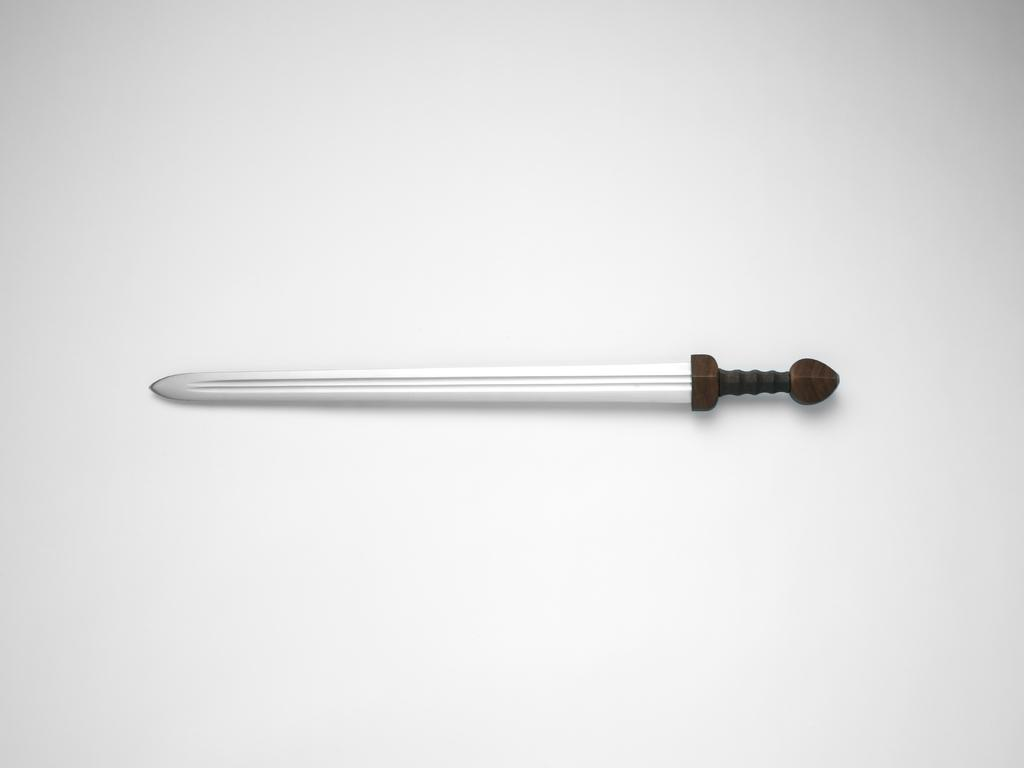Sword: (150, 352, 840, 411)
